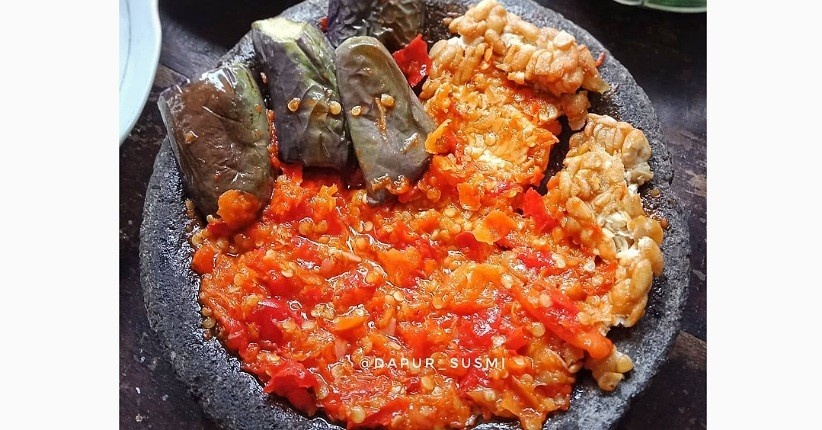sambal: (196, 185, 599, 429)
